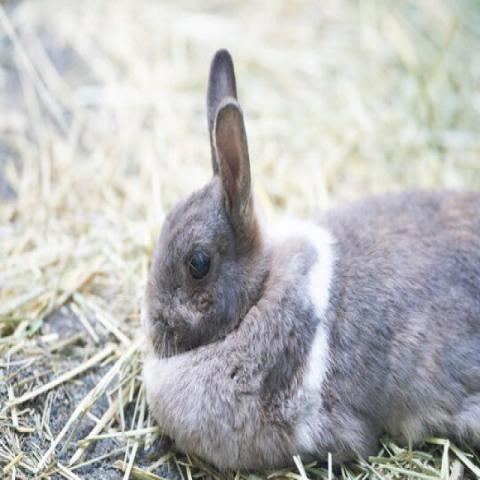small_animal: (138, 46, 479, 474)
